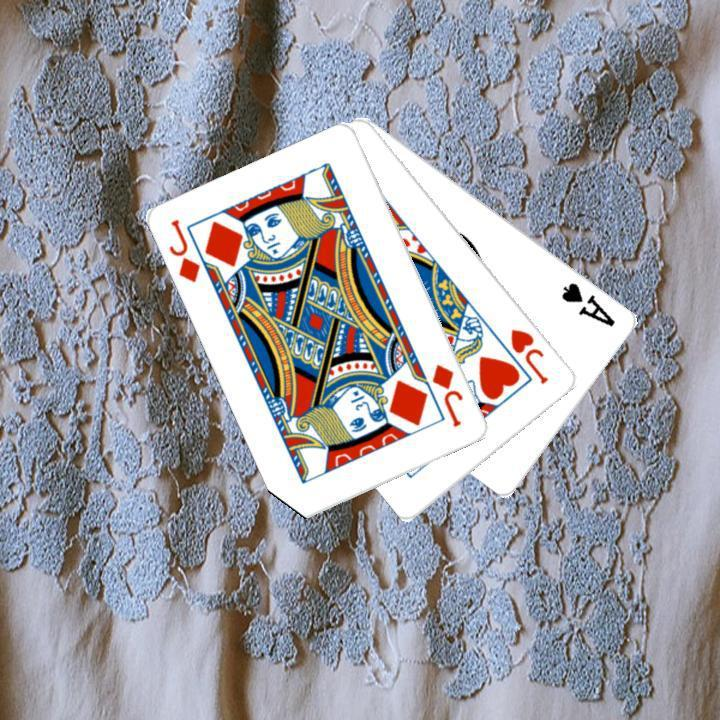A: (557, 277, 618, 329)
J: (506, 324, 551, 387), (428, 359, 466, 429), (165, 215, 203, 285)
